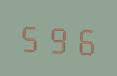five: (18, 17, 43, 55)
nine: (45, 19, 70, 56)
six: (71, 20, 96, 57)
